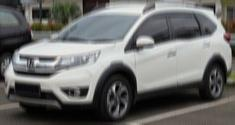Car hood: (18, 38, 118, 58)
Fender - -F-L-: (96, 41, 141, 99)
Fender - -R-L-: (210, 34, 229, 59)
Front bumper: (4, 70, 100, 109)
Headlight - -L-: (52, 49, 103, 72)
Headlight - -R-: (9, 43, 23, 65)
Passenger-s door - -F-L-: (137, 8, 178, 94)
Passenger-s door - -R-L-: (173, 8, 215, 86)
Rear bumper: (223, 59, 235, 81)
Rear light - -L-: (218, 30, 235, 42)
Side bumper - -L-: (132, 80, 207, 105)
Side mirror - -L-: (135, 33, 157, 51)
Side mirror - -R-: (47, 30, 61, 42)
